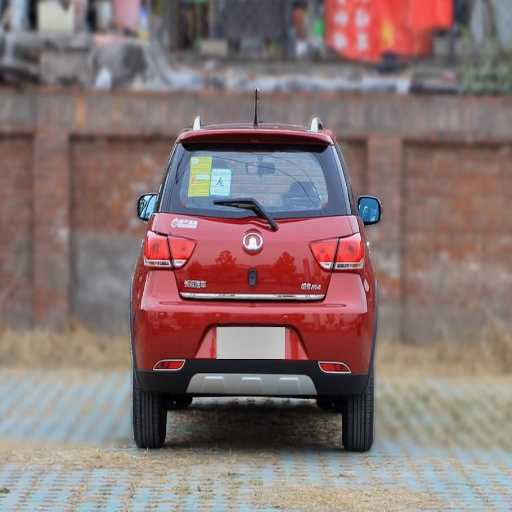back_bumper: (132, 265, 373, 394)
trunk: (147, 212, 356, 338)
